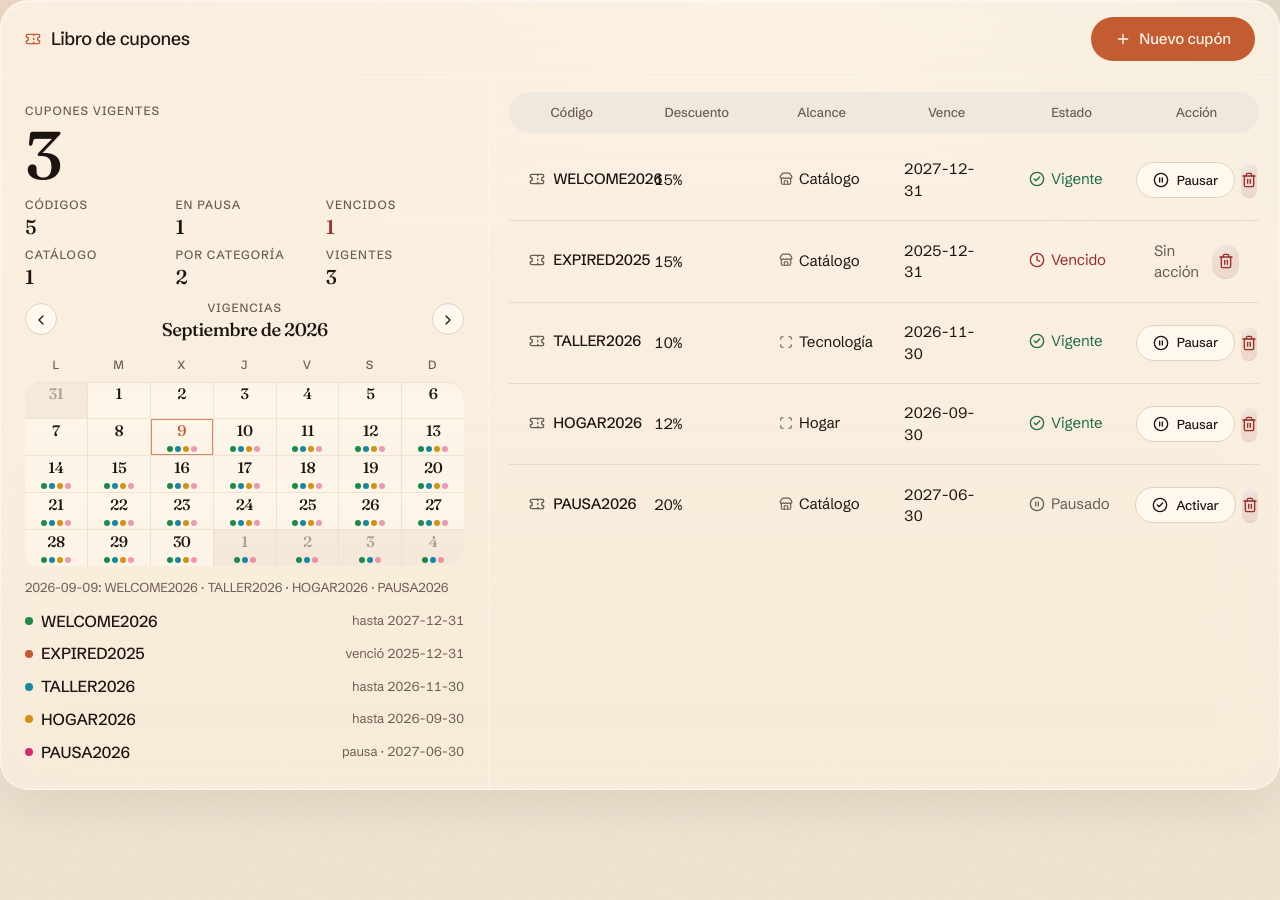
Test case: CouponDesk › shows coupon validity on a calendar instead of the status mix
Check: the text "Vigencias" is shown, box [207,300,282,315]
Check: the text "WELCOME2026" is shown, box [41,609,158,634]
Click the button "EXPIRED2025 venció 2025-12-31" at (93, 653), box [25,642,464,666]
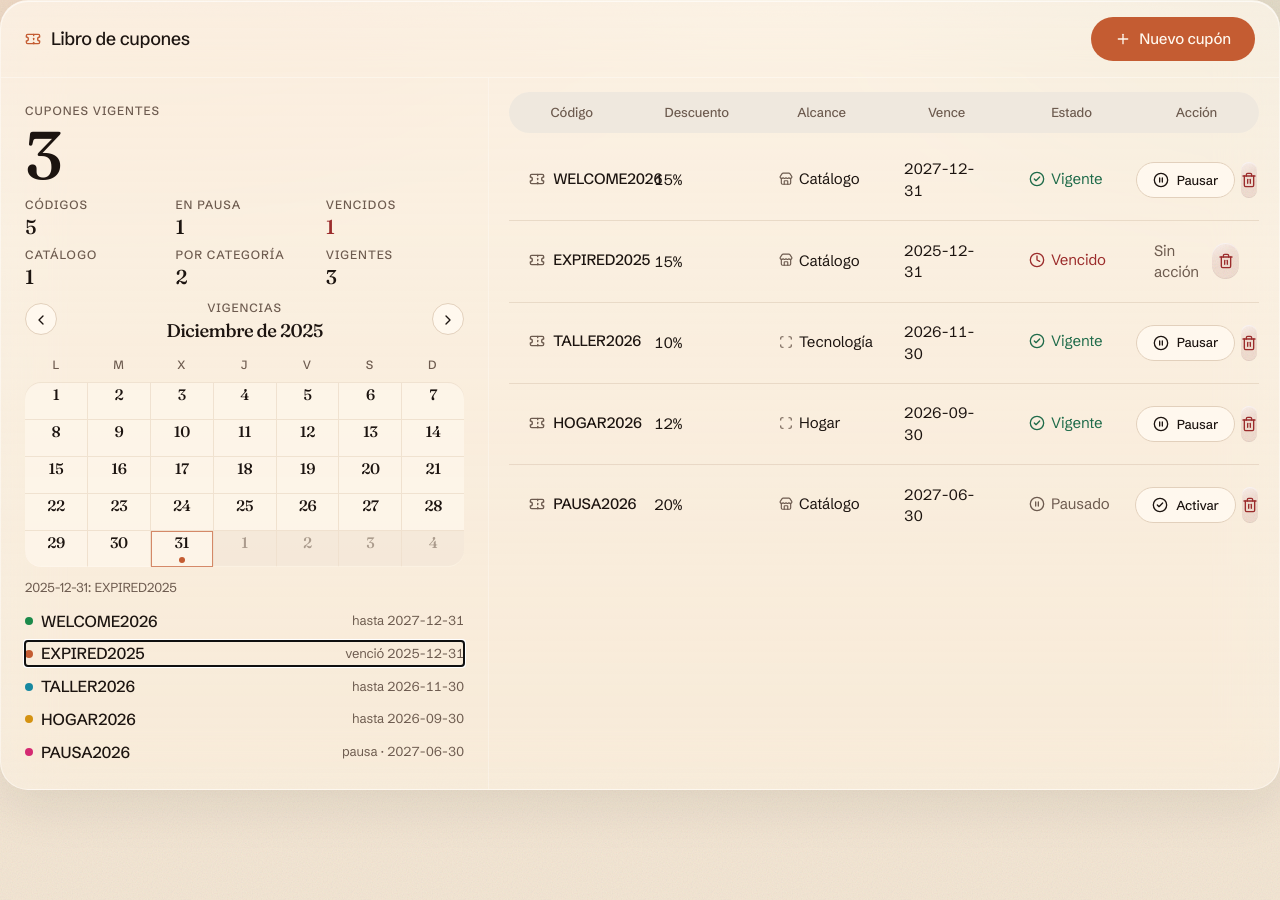
Check: the text "Diciembre de 2025" is shown, box [166,319,323,342]
Check: the text "2025-12-31: EXPIRED2025" is shown, box [25,579,177,595]
